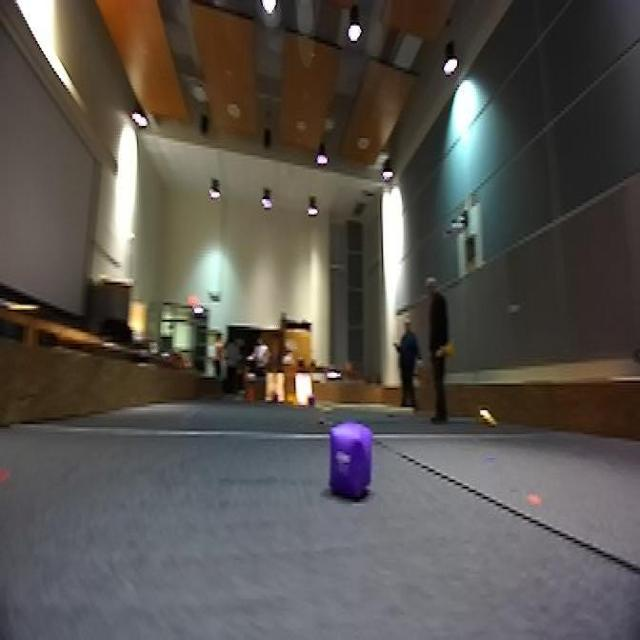frc_cone: (478, 402, 498, 429), (278, 390, 300, 407), (436, 339, 454, 359)
frc_cube: (328, 419, 372, 504), (267, 390, 281, 407), (307, 392, 319, 408)
